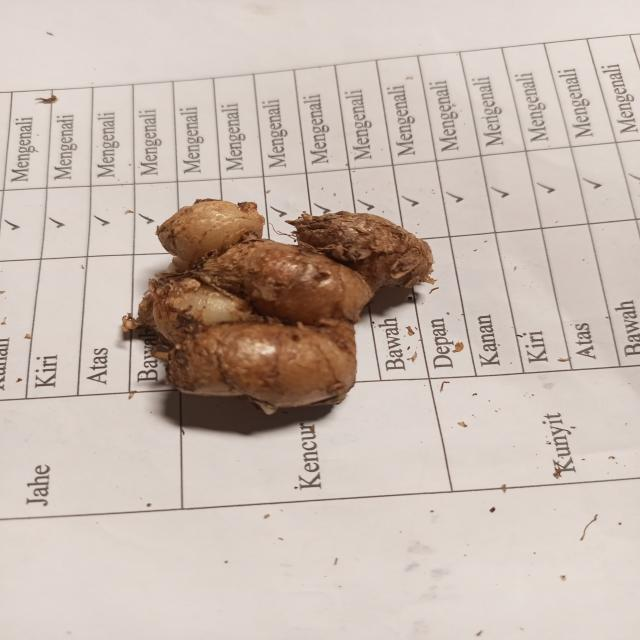ginger: (171, 225, 419, 392)
